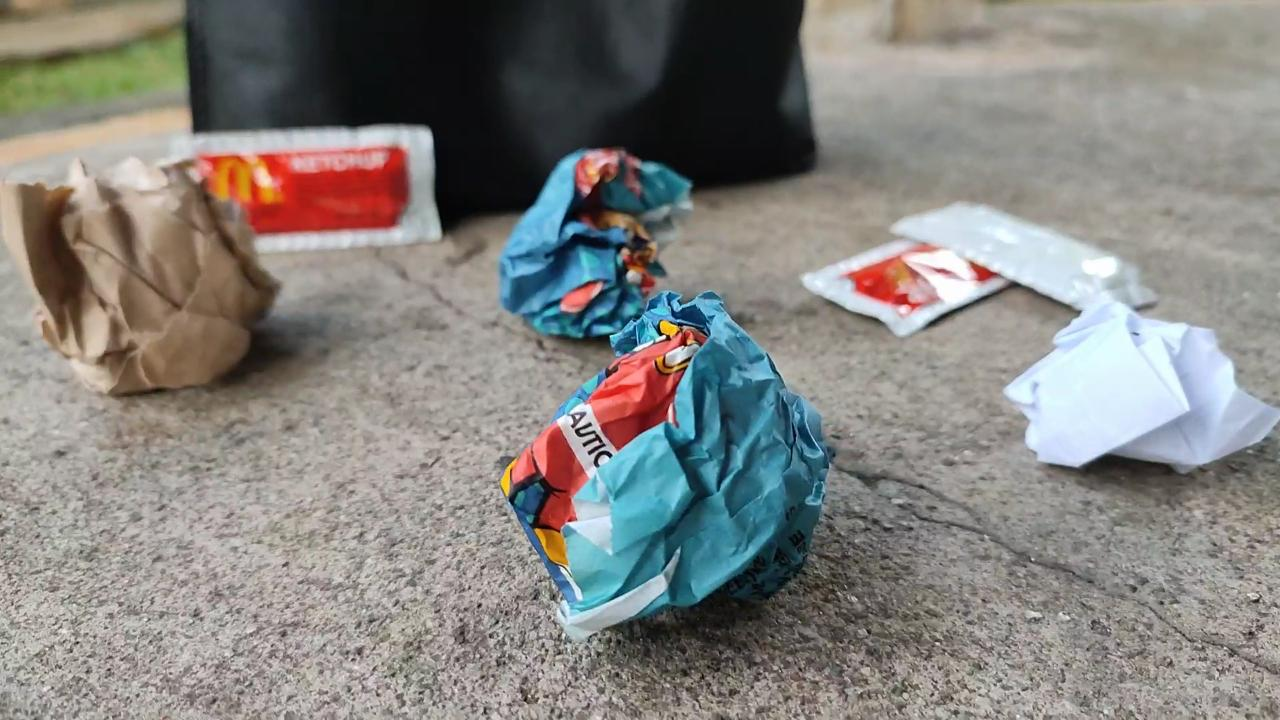Paper: (489, 290, 841, 649), (6, 145, 289, 398), (1011, 307, 1274, 495), (477, 132, 690, 344)
